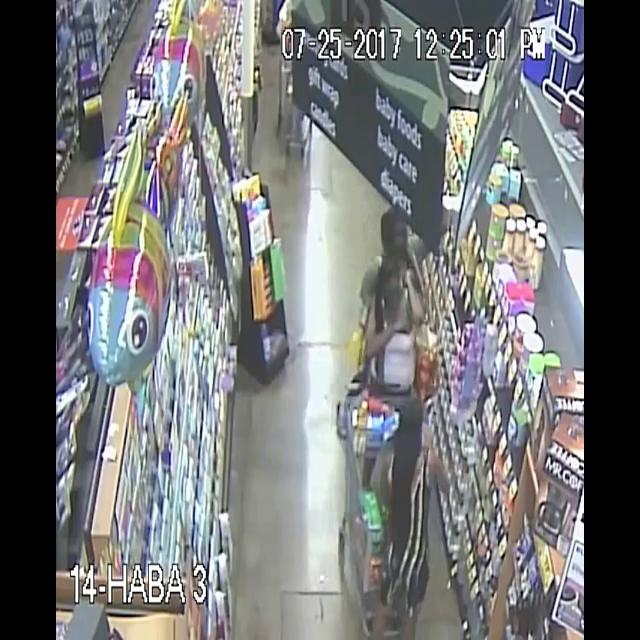normal: (355, 246, 477, 406)
shoplifting: (370, 390, 440, 640)
